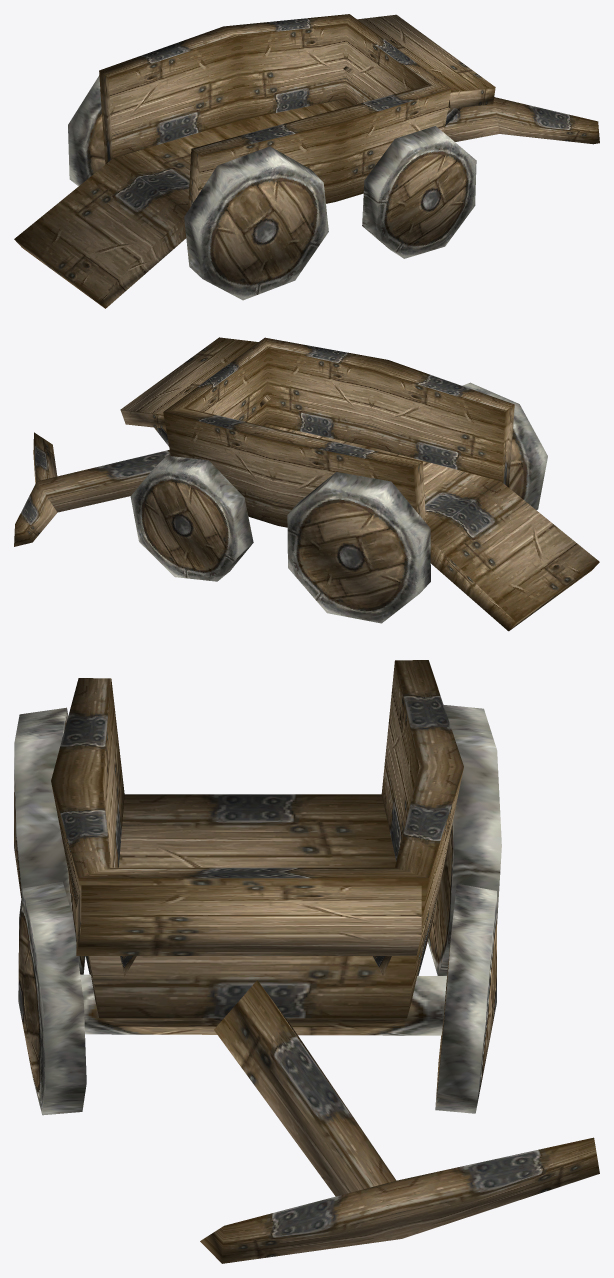
File: westfallwagon01.obj
The picture shows the model from 3 angles, top to bottom: view 1: azimuth 30°, elevation 25°; view 2: azimuth 150°, elevation 25°; view 3: azimuth 270°, elevation 25°; orthographic projection. The views are drawn at different scales.
Visible parts, largest first — view 1: Geoset0, Geoset1; view 2: Geoset0, Geoset1; view 3: Geoset0, Geoset1.
Boxes of the visible parts, x1,y1,x2,y2 form: Geoset0: (14, 14, 599, 308); Geoset1: (68, 75, 476, 300); Geoset0: (14, 337, 599, 631); Geoset1: (130, 382, 547, 623); Geoset0: (51, 660, 599, 1263); Geoset1: (14, 705, 501, 1115).
Bounding box in the file's own units: 9.12 × 2.57 × 5.03.
Materials: 2 (2 with a texture image).
